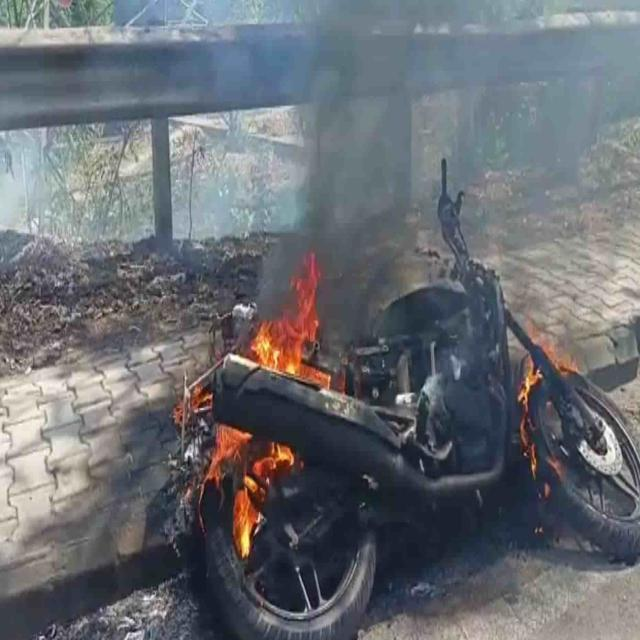Fire: (206, 421, 300, 556), (250, 288, 318, 389)
